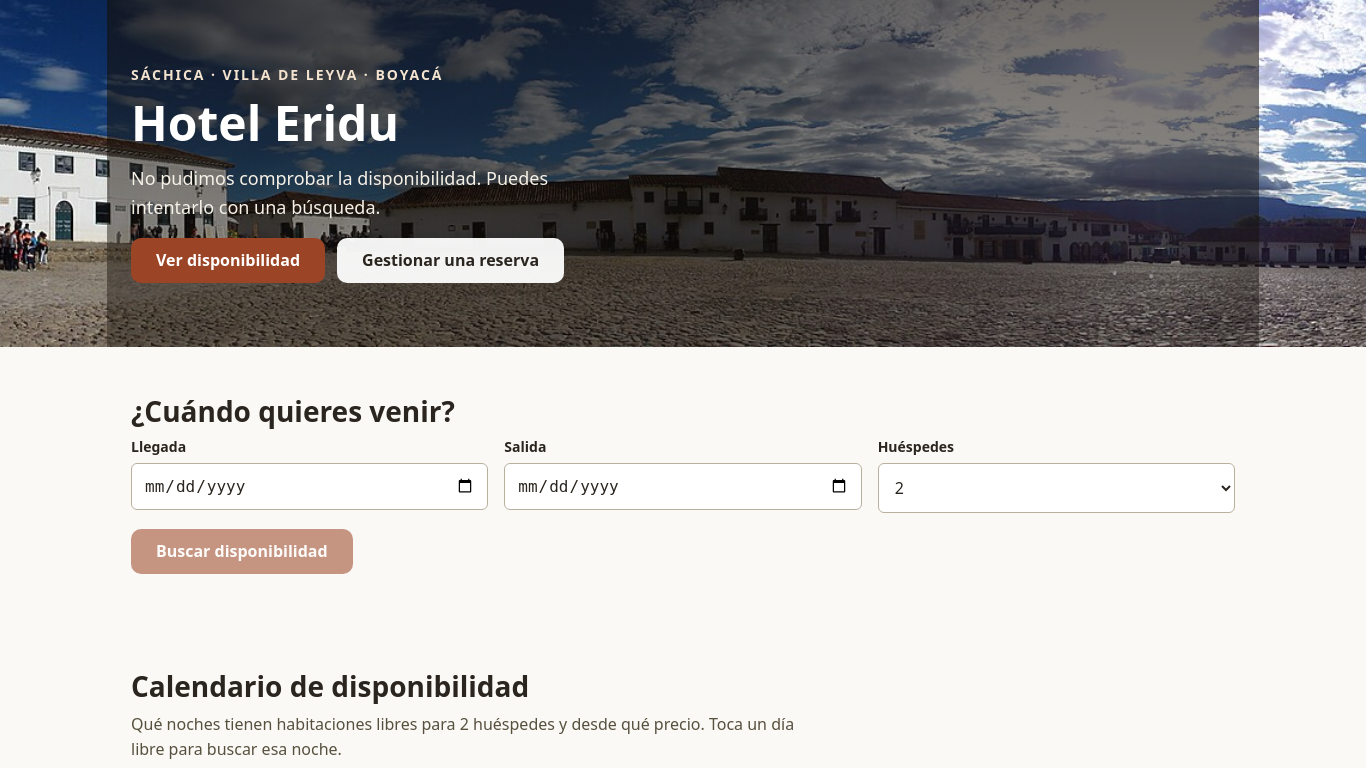
Test: reserva en línea no disponible › si la venta falla al leer, la búsqueda sigue abierta
This screenshot has width=1366, height=768.
Type "2030-06-10" into the date field labelled "Llegada" at (310, 486), box x1=131 y1=463 x2=488 y2=510
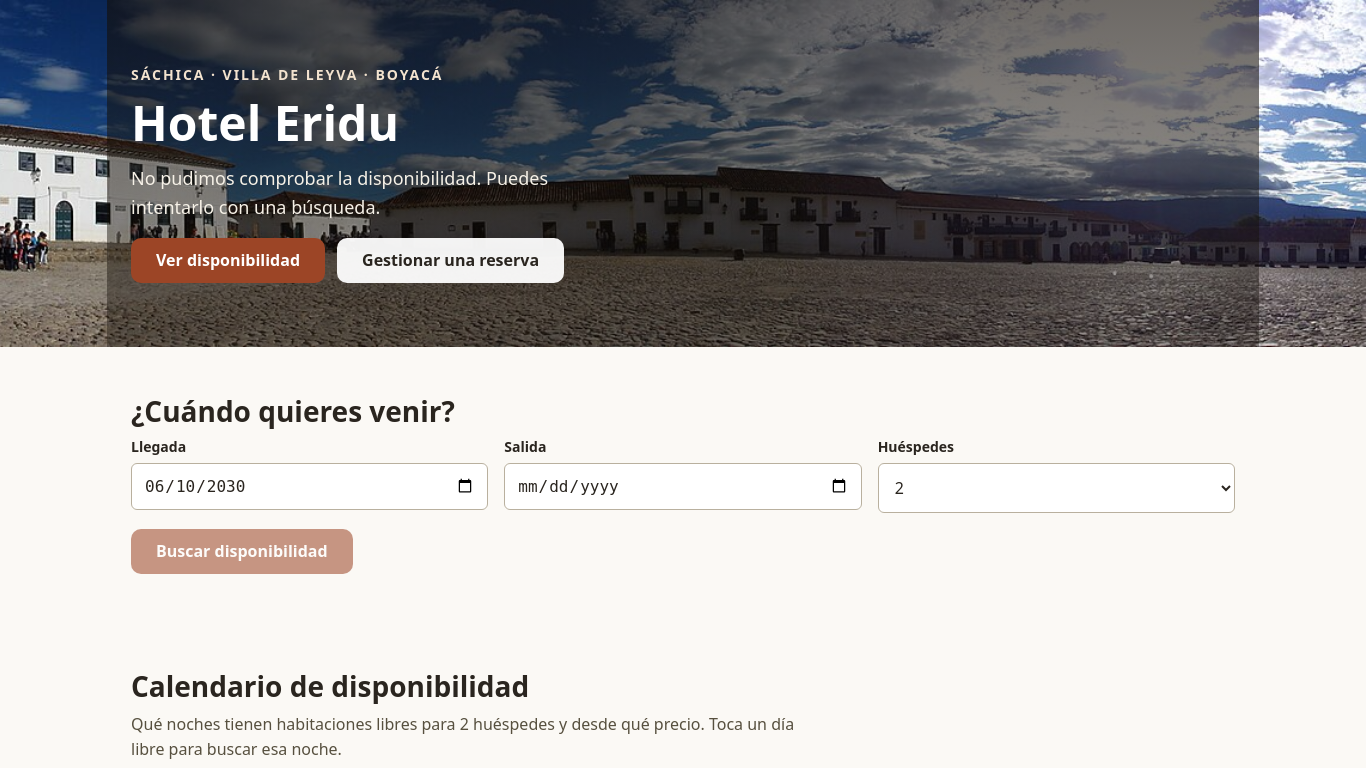
Type "2030-06-12" into the date field labelled "Salida" at (683, 486), box x1=504 y1=463 x2=862 y2=510
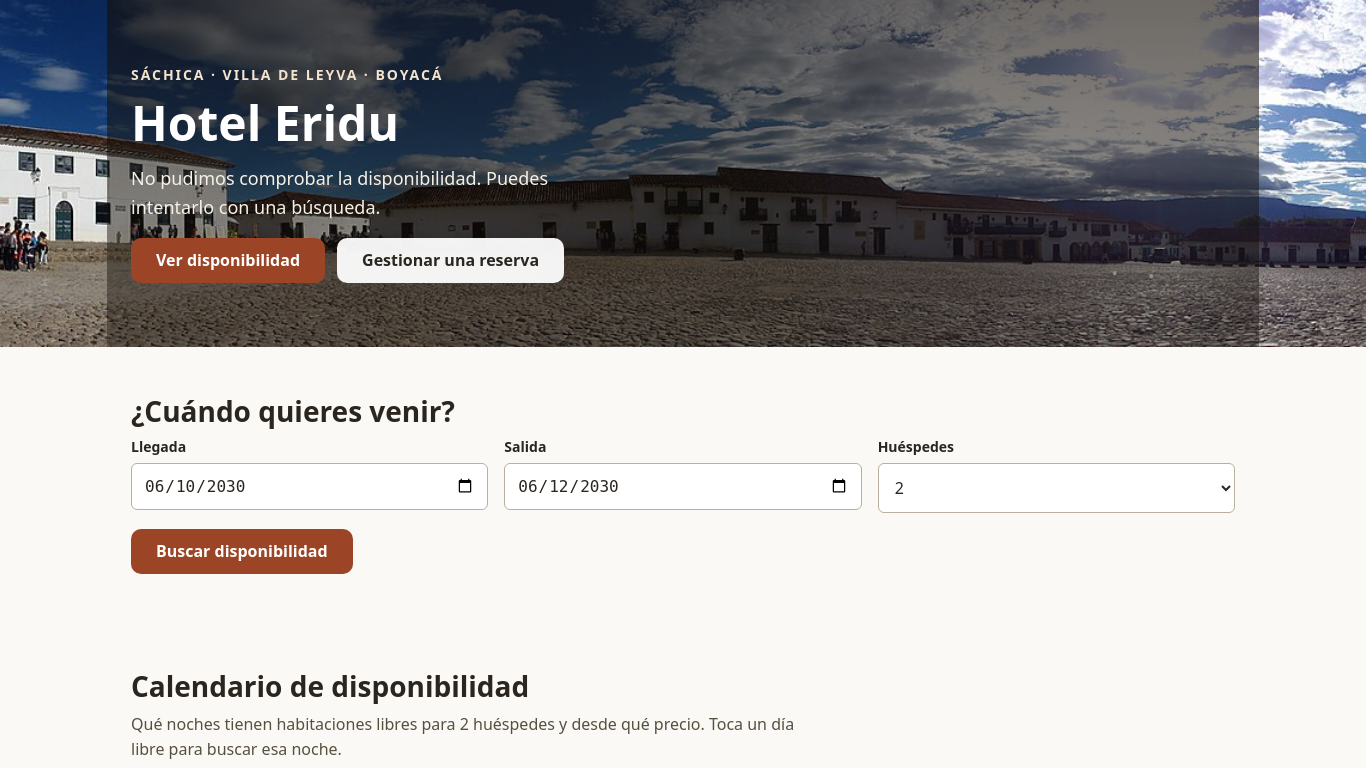
expect the button "Buscar disponibilidad" is enabled: met, box x1=131 y1=529 x2=353 y2=574
